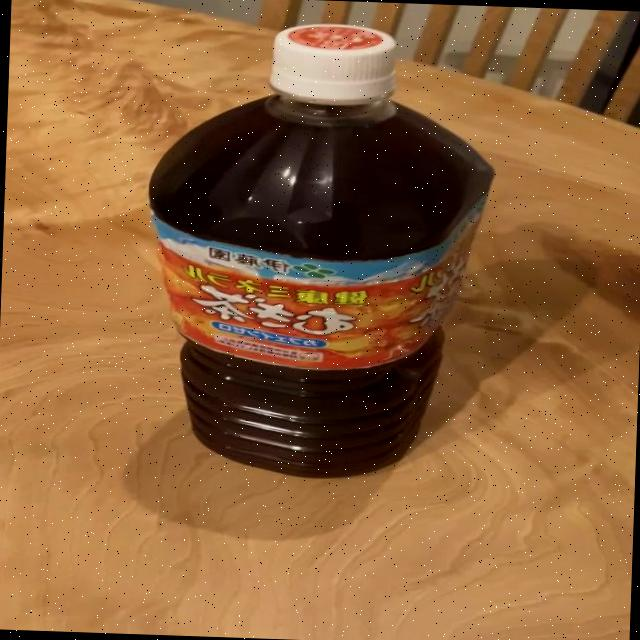bottle: (135, 16, 502, 487)
cap: (264, 15, 403, 111)
label: (135, 200, 497, 374)
